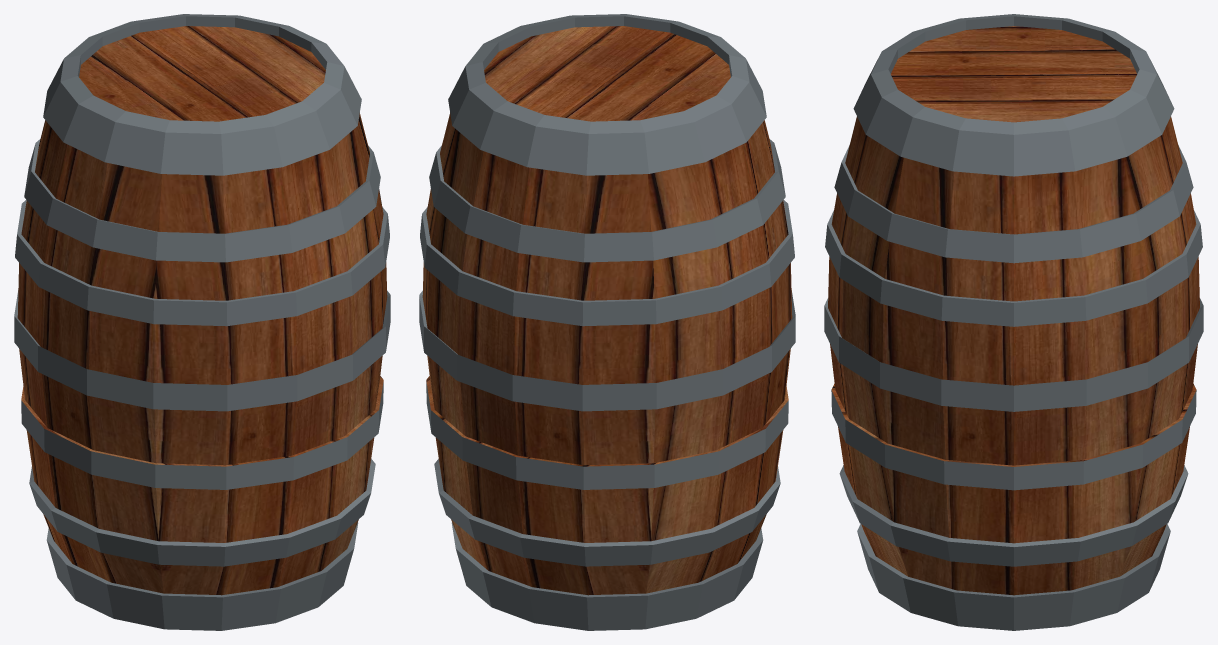
The model's file is barrel.fbx.
3 views of the same model, side by side, from view 1: azimuth 30°, elevation 25°; view 2: azimuth 150°, elevation 25°; view 3: azimuth 270°, elevation 25° (orthographic).
Visible parts, largest first — view 1: Cylinder; view 2: Cylinder; view 3: Cylinder.
Part boxes in pixels (x1=…): Cylinder: x1=14, y1=14, x2=390, y2=630; Cylinder: x1=419, y1=14, x2=795, y2=630; Cylinder: x1=824, y1=14, x2=1203, y2=630.
Bounding box in the file's own units: 502 × 731 × 502.
Materials: 2 (1 with a texture image).
